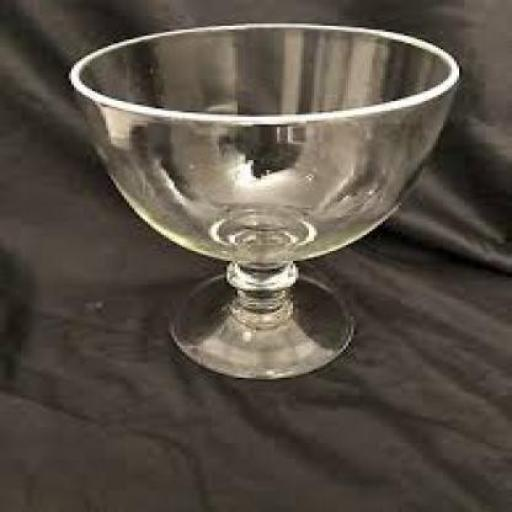glass: (66, 22, 460, 377)
